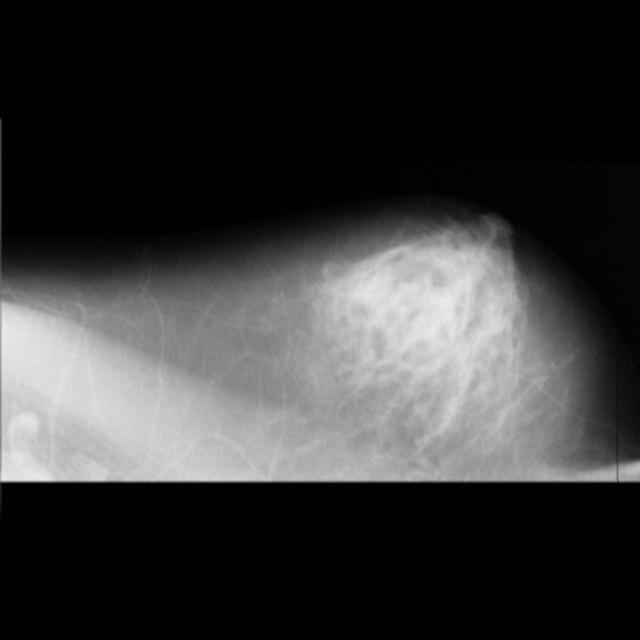CALC: (428, 417, 444, 433)
